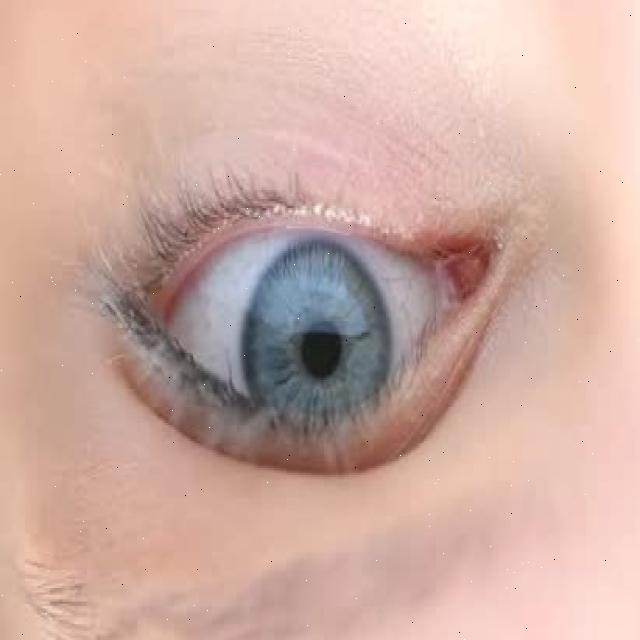Normal: (242, 238, 396, 461)
